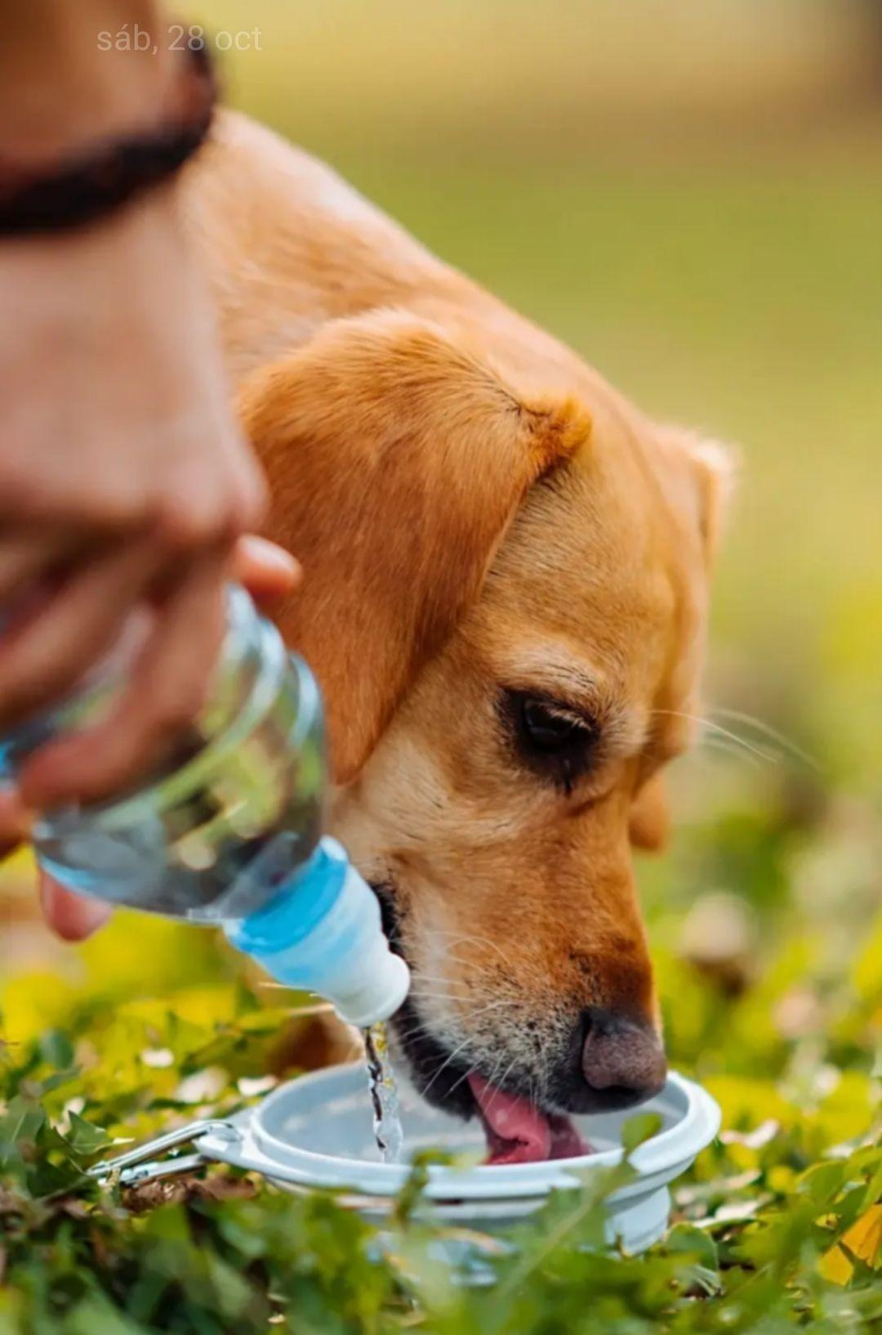adult_dog: (133, 85, 754, 1167)
